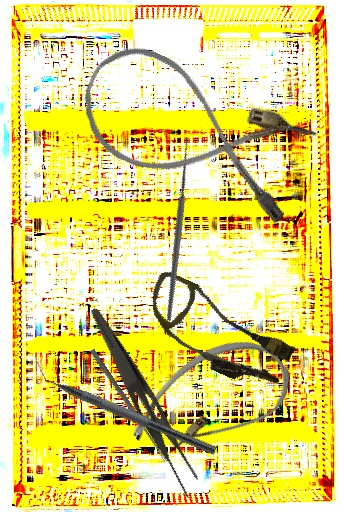Cannula: (65, 32, 323, 232), (118, 317, 304, 489), (133, 268, 303, 398)
Chopper: (27, 359, 223, 456)
Dressing Forceps: (70, 306, 213, 501)
Hook Surgical: (85, 131, 264, 322)
Surgical Spoon: (89, 348, 169, 464)
